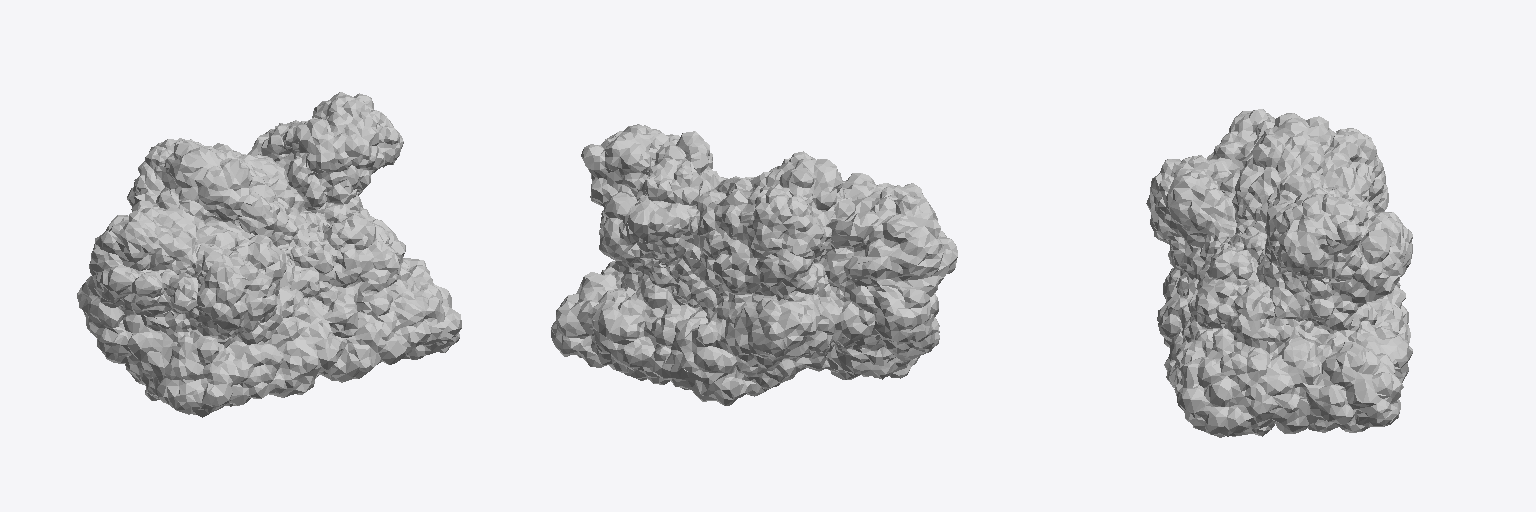
The model's file is cloud.obj.
The picture shows the model from 3 angles: view 1: azimuth 30°, elevation 25°; view 2: azimuth 150°, elevation 25°; view 3: azimuth 270°, elevation 25°; orthographic projection.
Parts seen in each view (by area): view 1: Plane; view 2: Plane; view 3: Plane.
Part boxes in pixels (x1,y1,x2,y2): Plane: (77,92,461,417); Plane: (551,124,957,405); Plane: (1146,109,1412,437).
Size of the model in its own units: 12.47 by 7.97 by 8.43.